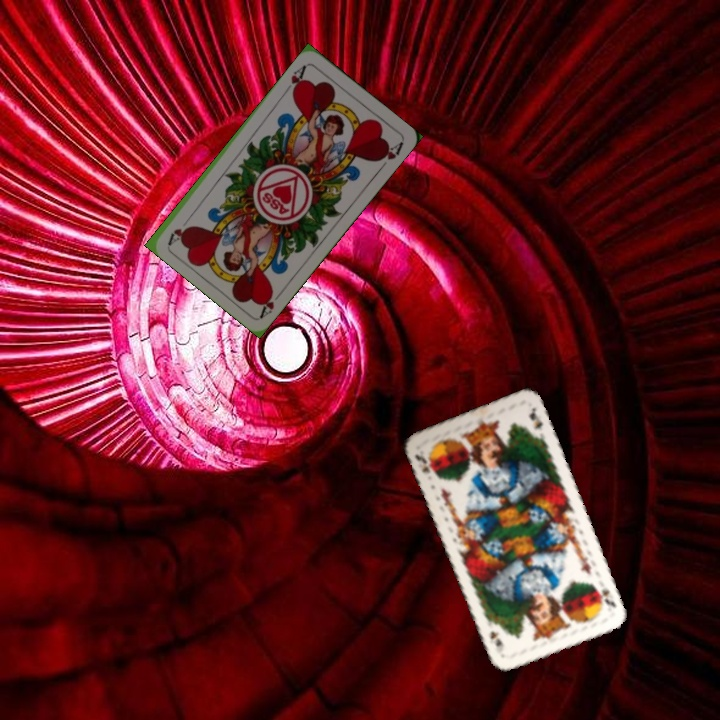HA: (256, 285, 287, 320), (280, 61, 309, 98)
SK: (591, 580, 619, 610), (411, 450, 438, 479)
